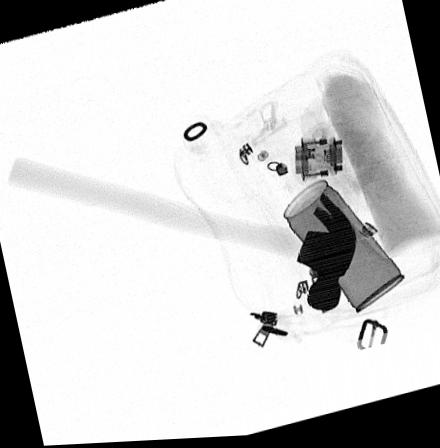Hammer: (7, 155, 356, 314)
